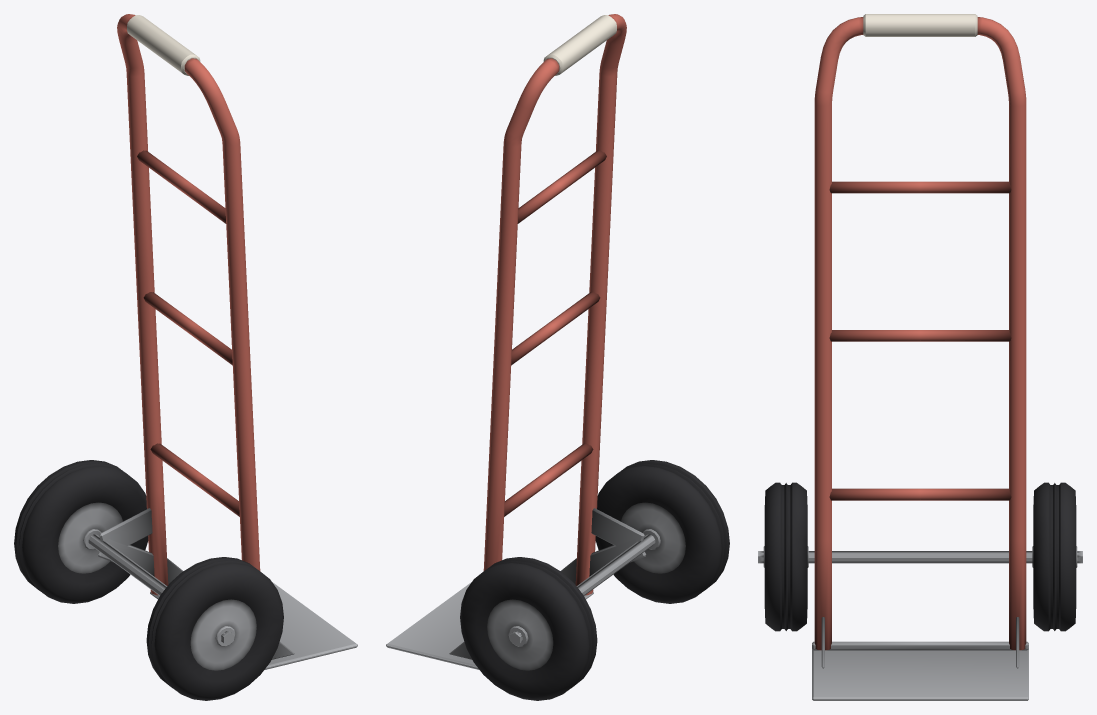
Rendered from junk_trolley.glb.
The picture shows the model from 3 angles, left to right: view 1: azimuth 30°, elevation 25°; view 2: azimuth 150°, elevation 25°; view 3: azimuth 270°, elevation 25°; orthographic projection.
Parts seen in each view (by area): view 1: PART; view 2: PART; view 3: PART.
Part boxes in pixels (box(x1,y1,x2,y2)): PART: box(14, 14, 357, 700); PART: box(386, 14, 729, 700); PART: box(758, 14, 1082, 700).
Bounding box in the file's own units: 0.45 × 1.19 × 0.568.
